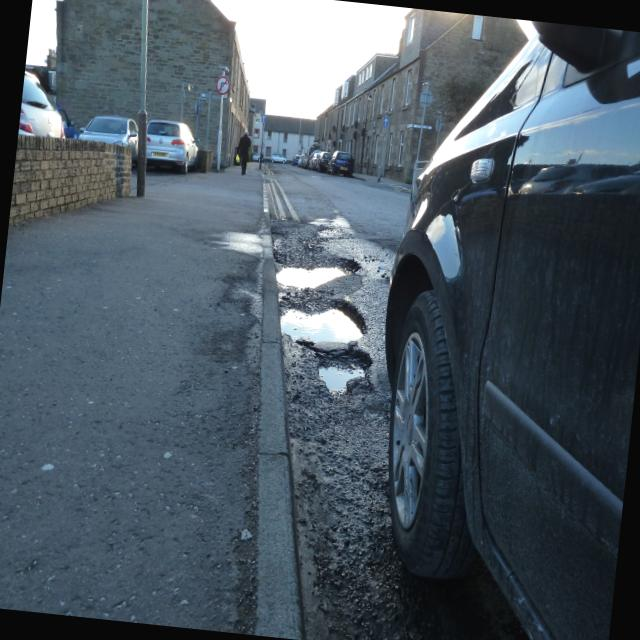bad-road: (274, 294, 369, 350), (274, 242, 364, 296), (312, 344, 374, 404)
